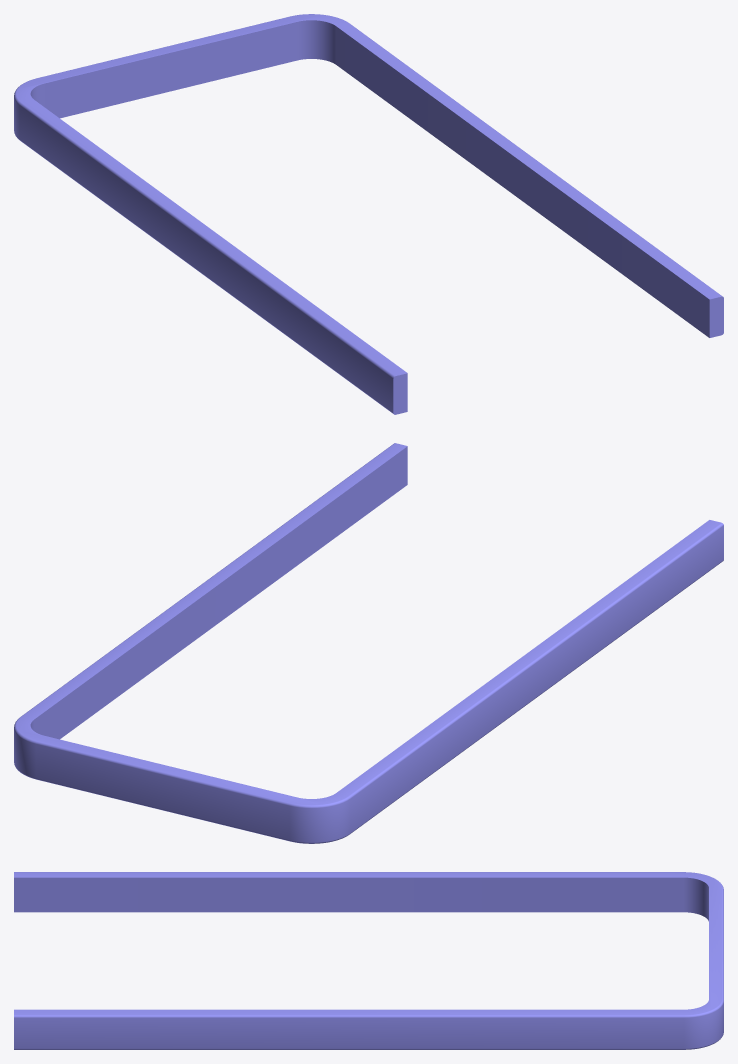
File: original-4.obj
The picture shows the model from 3 angles, top to bottom: view 1: azimuth 30°, elevation 25°; view 2: azimuth 150°, elevation 25°; view 3: azimuth 270°, elevation 25°; orthographic projection. The views are drawn at different scales.
Visible parts, largest first — view 1: Component_2_1/Component_2/mesh5/mesh5-geometry#mesh5-geometry; view 2: Component_2_1/Component_2/mesh5/mesh5-geometry#mesh5-geometry; view 3: Component_2_1/Component_2/mesh5/mesh5-geometry#mesh5-geometry.
Part boxes in pixels (x1,y1,x2,y2): Component_2_1/Component_2/mesh5/mesh5-geometry#mesh5-geometry: (14, 14, 723, 414); Component_2_1/Component_2/mesh5/mesh5-geometry#mesh5-geometry: (14, 443, 723, 843); Component_2_1/Component_2/mesh5/mesh5-geometry#mesh5-geometry: (14, 872, 723, 1049).
Bounding box in the file's own units: 0.4965 × 0.0555 × 1.03.
